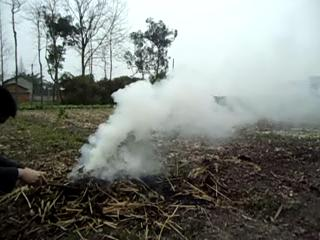yanwu: (77, 49, 293, 176)
